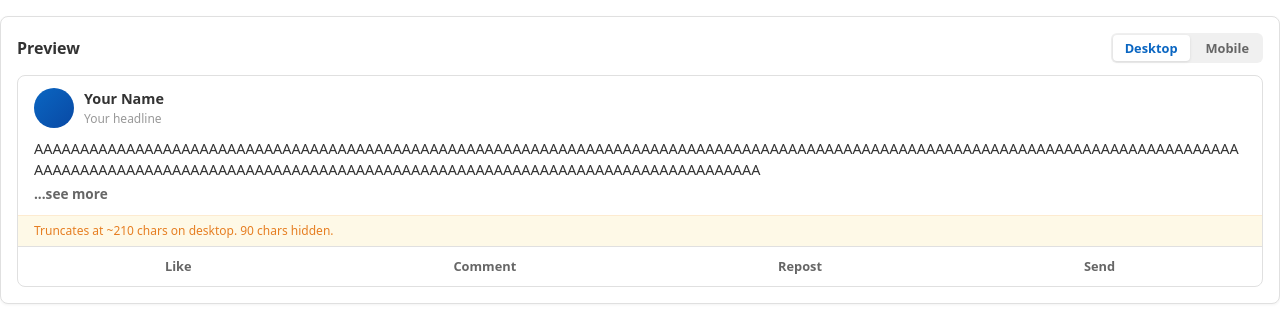
PostPreview › shows "show less" button that collapses text
This screenshot has width=1280, height=321.
What coordinates should you click on to do the following:
click the button "...see more"
I would click on:
 (71, 194)
Its box is [34,184,108,203].
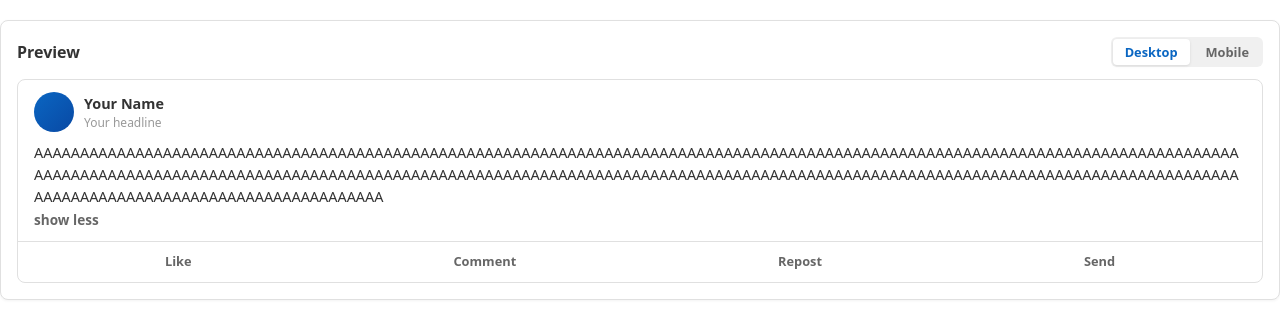
What coordinates should you click on to do the following:
click the button "show less"
I would click on:
 (66, 220)
Its box is [34,210,99,229].
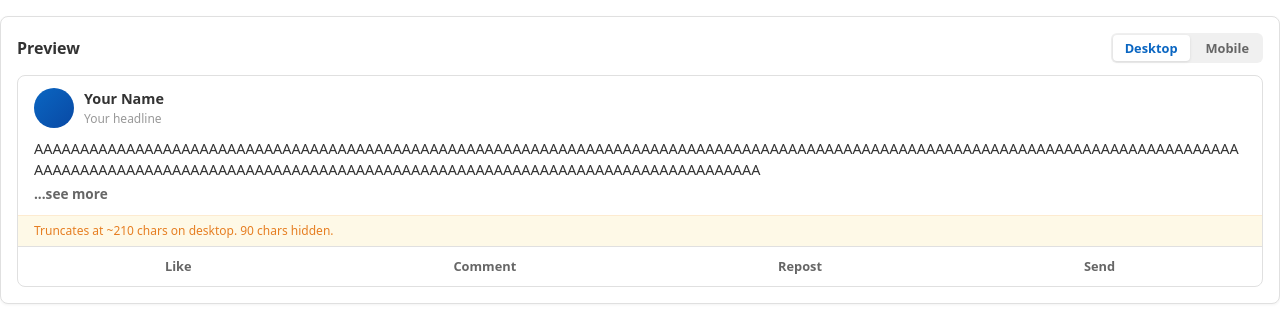
Result: the button "...see more" is shown at [34,184,108,203]
